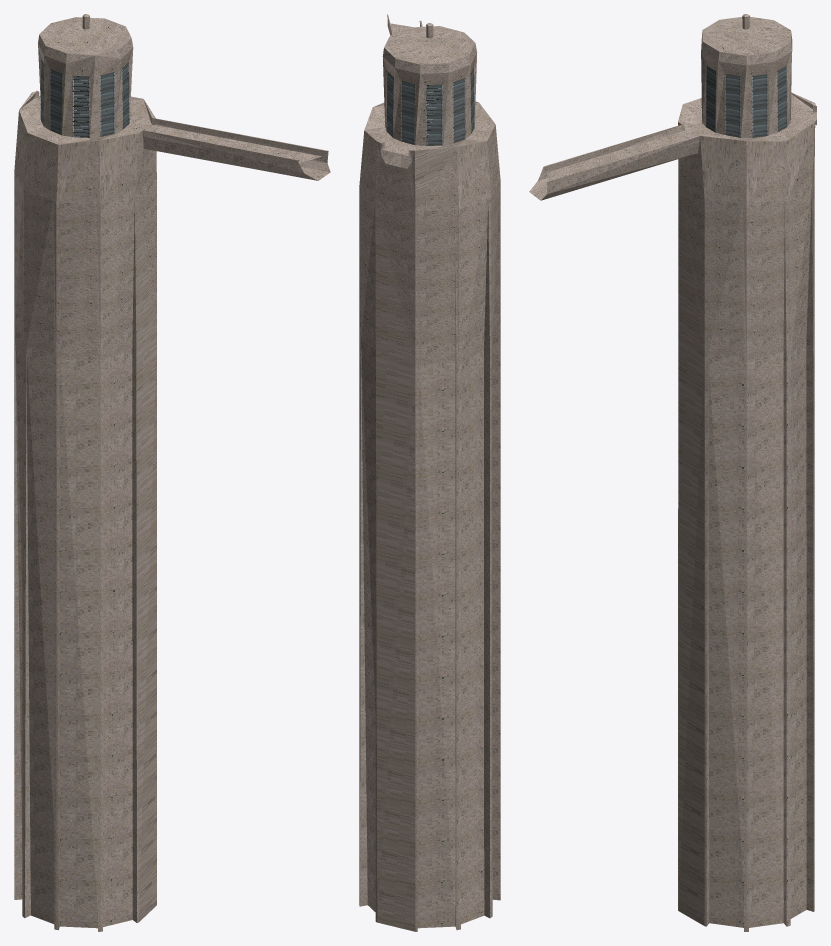
Rendered from lod_dam_turbine_1.obj.
3 renders of one model, left to right at view 1: azimuth 30°, elevation 25°; view 2: azimuth 150°, elevation 25°; view 3: azimuth 270°, elevation 25°, orthographic.
Visible parts, largest first — view 1: lod_dam_turbine_1; view 2: lod_dam_turbine_1; view 3: lod_dam_turbine_1.
Boxes of the visible parts, box(x1,y1,x2,y2) form: lod_dam_turbine_1: box(14, 14, 330, 931); lod_dam_turbine_1: box(359, 14, 500, 931); lod_dam_turbine_1: box(529, 14, 816, 931).
Bounding box in the file's own units: 31.05 × 129 × 37.76.
2 materials, 2 textured.
